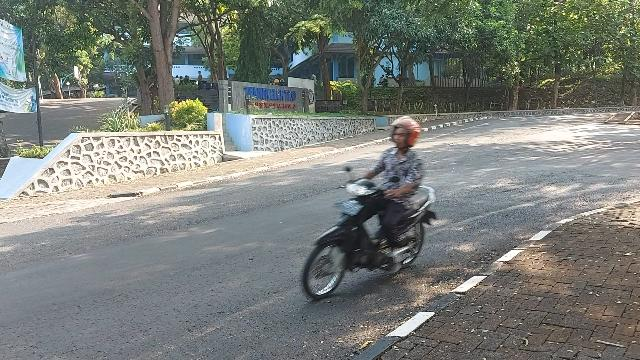helm: (392, 117, 421, 149)
motor: (303, 166, 439, 301)
